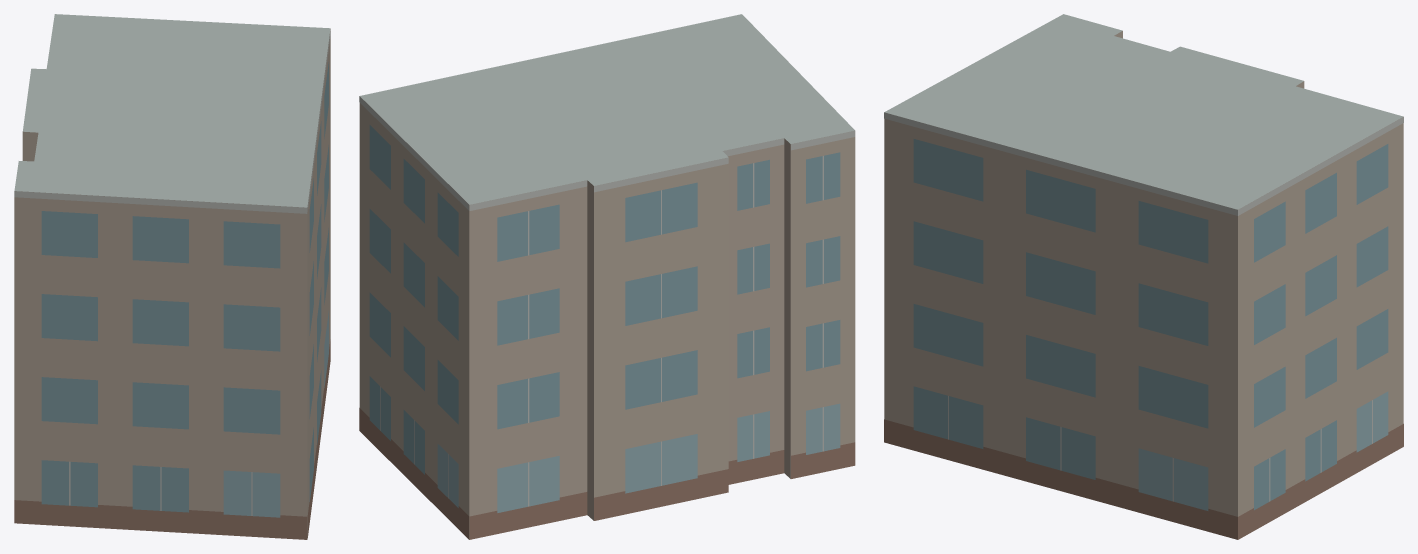
Rendered from survey-upis-32916790.glb.
The picture shows the model from 3 angles, left to right: view 1: azimuth 30°, elevation 25°; view 2: azimuth 150°, elevation 25°; view 3: azimuth 270°, elevation 25°; orthographic projection.
Parts seen in each view (by area): view 1: survey-upis-32916790.tmp; view 2: survey-upis-32916790.tmp; view 3: survey-upis-32916790.tmp.
Boxes of the visible parts, x1,y1,x2,y2 form: survey-upis-32916790.tmp: (14, 14, 330, 539); survey-upis-32916790.tmp: (359, 14, 855, 539); survey-upis-32916790.tmp: (884, 14, 1403, 539).
Size of the model in its own units: 16.42 by 12.9 by 18.42.
